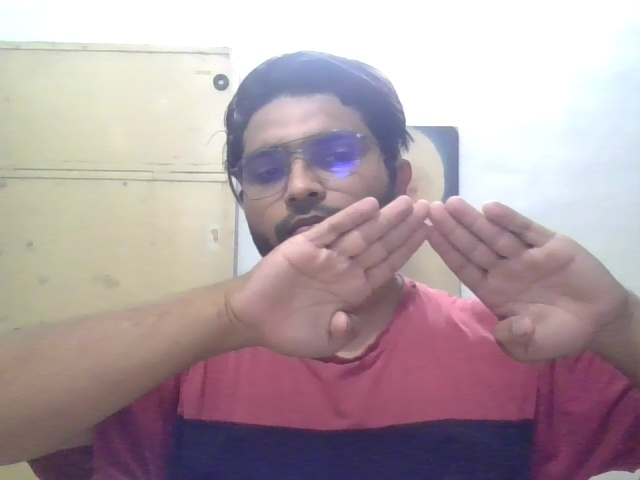thankyou: (263, 199, 607, 355)
